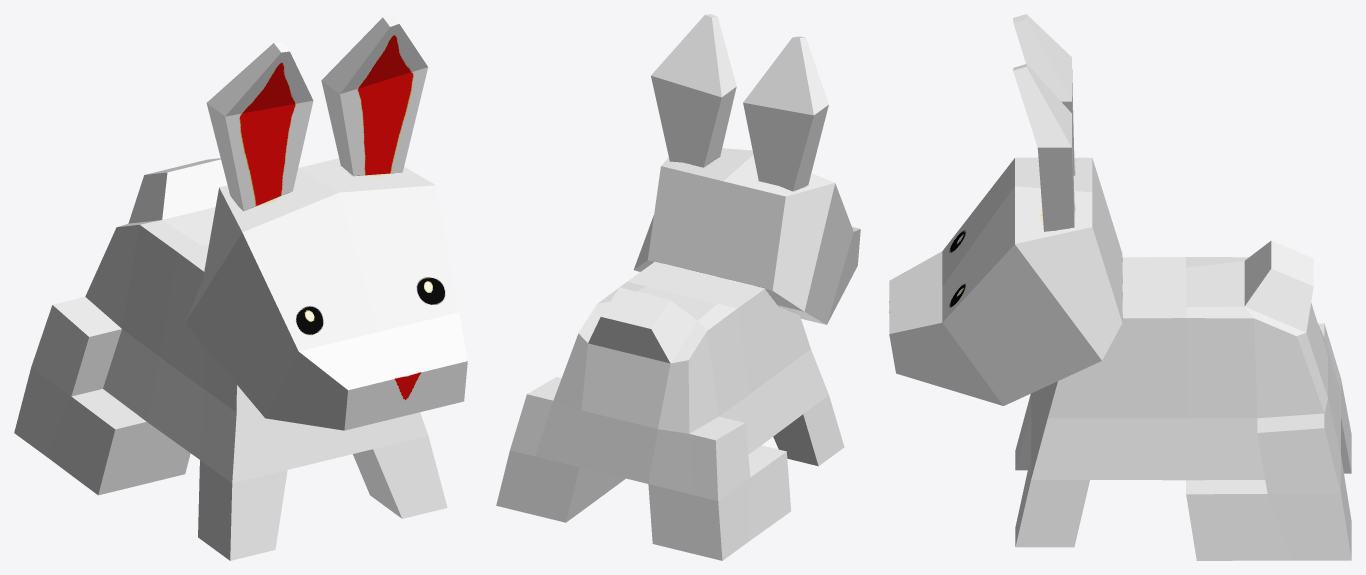
Rendered from cat.fbx.
3 renders of one model, left to right at view 1: azimuth 30°, elevation 25°; view 2: azimuth 150°, elevation 25°; view 3: azimuth 270°, elevation 25°, orthographic. The views are drawn at different scales.
Parts seen in each view (by area): view 1: Cube.003; view 2: Cube.003; view 3: Cube.003.
Part boxes in pixels (x1,y1,x2,y2): Cube.003: (14, 14, 467, 560); Cube.003: (496, 14, 860, 560); Cube.003: (889, 14, 1351, 560).
Bounding box in the file's own units: 384 × 650 × 595.
